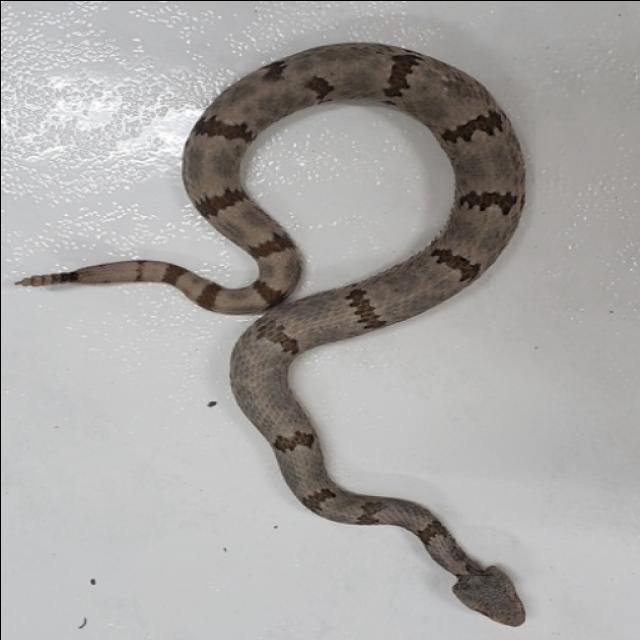snake: (8, 14, 546, 640)
